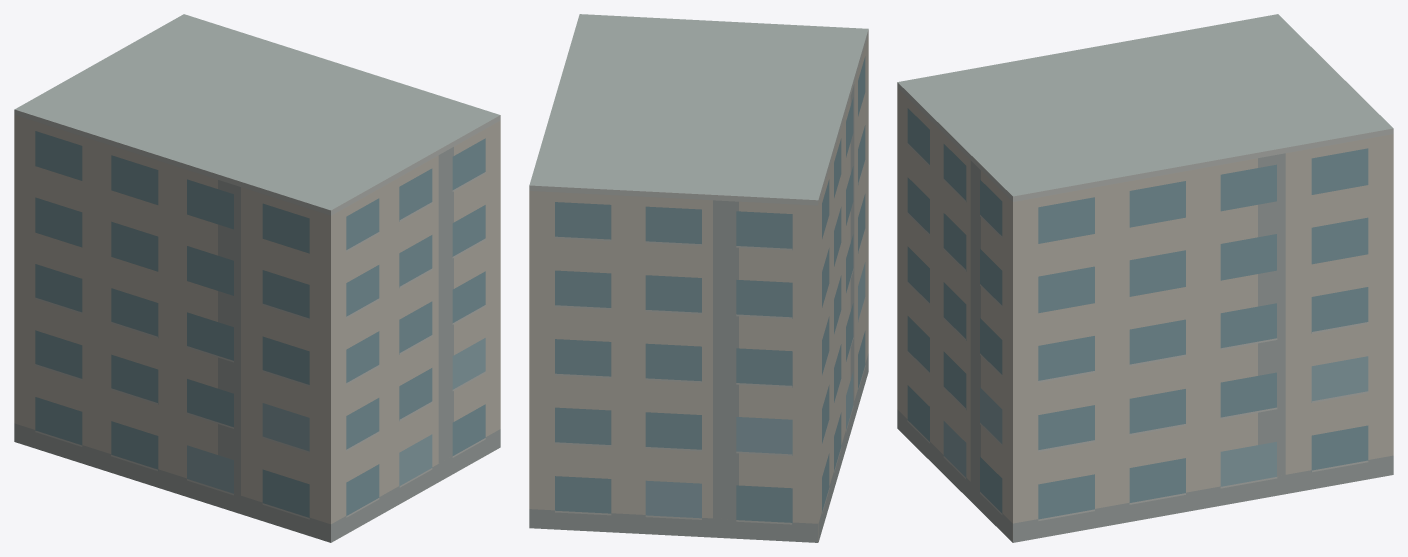
File: survey-upis-32593828.glb
The picture shows the model from 3 angles, left to right: view 1: azimuth 30°, elevation 25°; view 2: azimuth 150°, elevation 25°; view 3: azimuth 270°, elevation 25°; orthographic projection. The views are drawn at different scales.
Visible parts, largest first — view 1: survey-upis-32593828.tmp; view 2: survey-upis-32593828.tmp; view 3: survey-upis-32593828.tmp.
Part boxes in pixels (left/top/right/bottom): survey-upis-32593828.tmp: left=14, top=14, right=500, bottom=542; survey-upis-32593828.tmp: left=529, top=14, right=868, bottom=542; survey-upis-32593828.tmp: left=897, top=14, right=1393, bottom=542.
Size of the model in its own units: 17.24 by 15.25 by 19.81.
